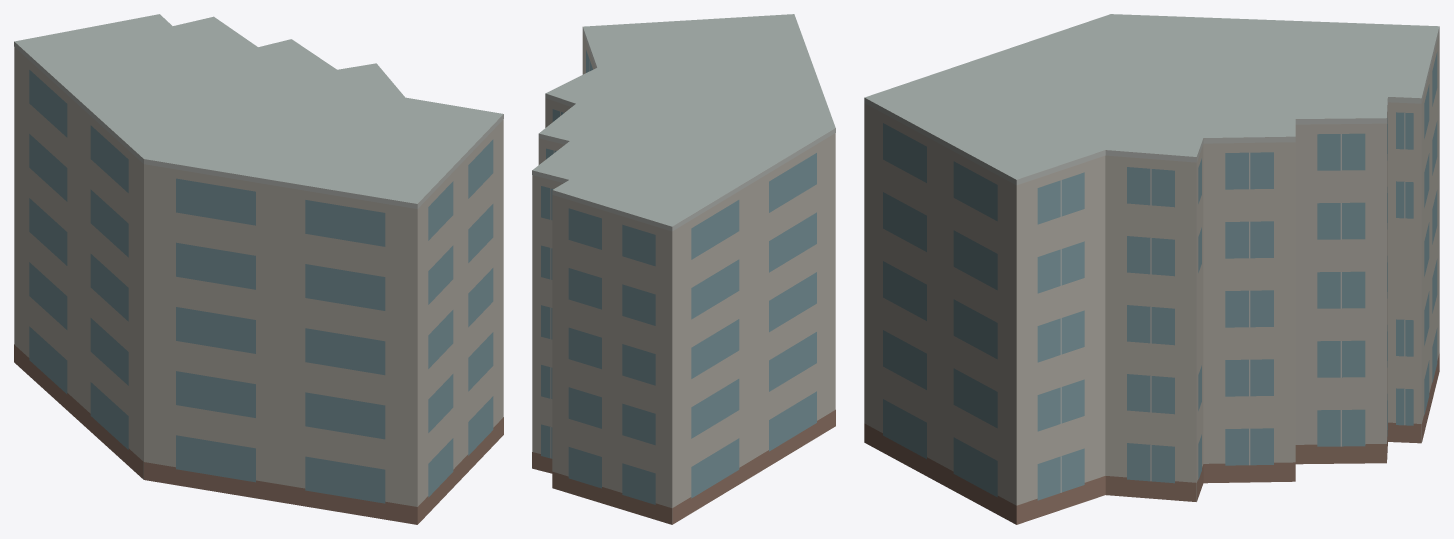
The model's file is survey-upis-32762873.glb.
3 views of the same model, side by side, from view 1: azimuth 30°, elevation 25°; view 2: azimuth 150°, elevation 25°; view 3: azimuth 270°, elevation 25° (orthographic). The views are drawn at different scales.
Parts seen in each view (by area): view 1: survey-upis-32762873.tmp; view 2: survey-upis-32762873.tmp; view 3: survey-upis-32762873.tmp.
Part boxes in pixels (box(x1,y1,x2,y2)): survey-upis-32762873.tmp: box(14, 14, 503, 524); survey-upis-32762873.tmp: box(532, 14, 835, 524); survey-upis-32762873.tmp: box(864, 14, 1439, 524).
Bounding box in the file's own units: 15.68 × 15.2 × 22.97.
